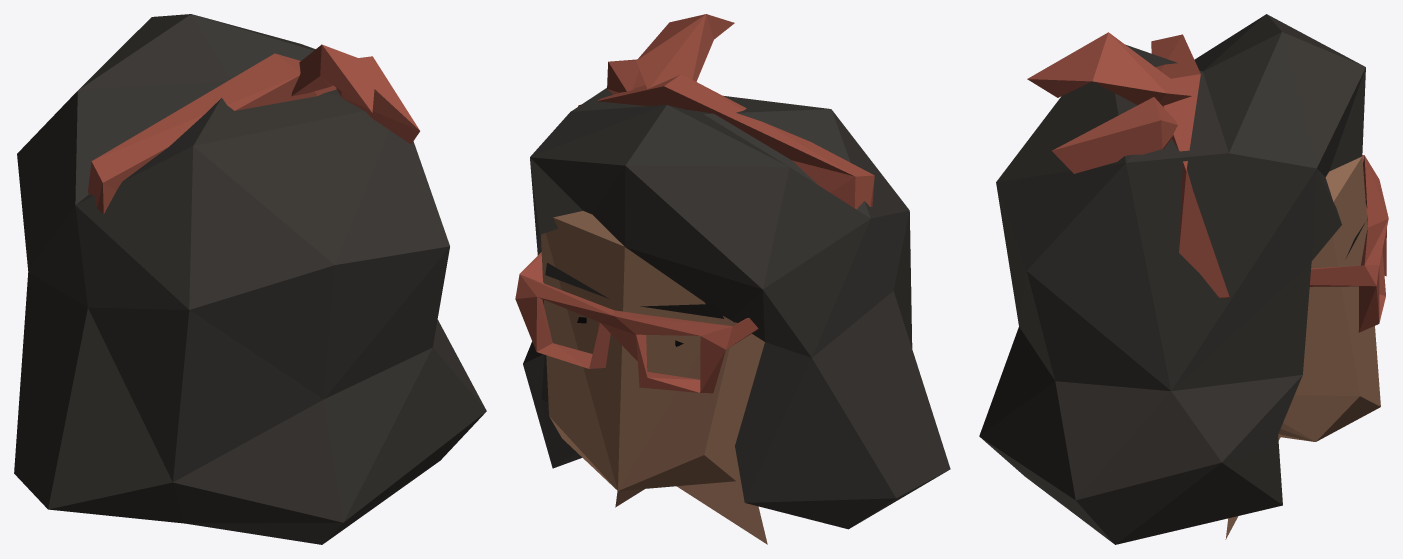
File: Head.obj
The picture shows the model from 3 angles, left to right: view 1: azimuth 30°, elevation 25°; view 2: azimuth 150°, elevation 25°; view 3: azimuth 270°, elevation 25°; orthographic projection. The views are drawn at different scales.
Size of the model in its own units: 0.3587 by 0.4017 by 0.3045.
Materials: 1 (1 with a texture image).
